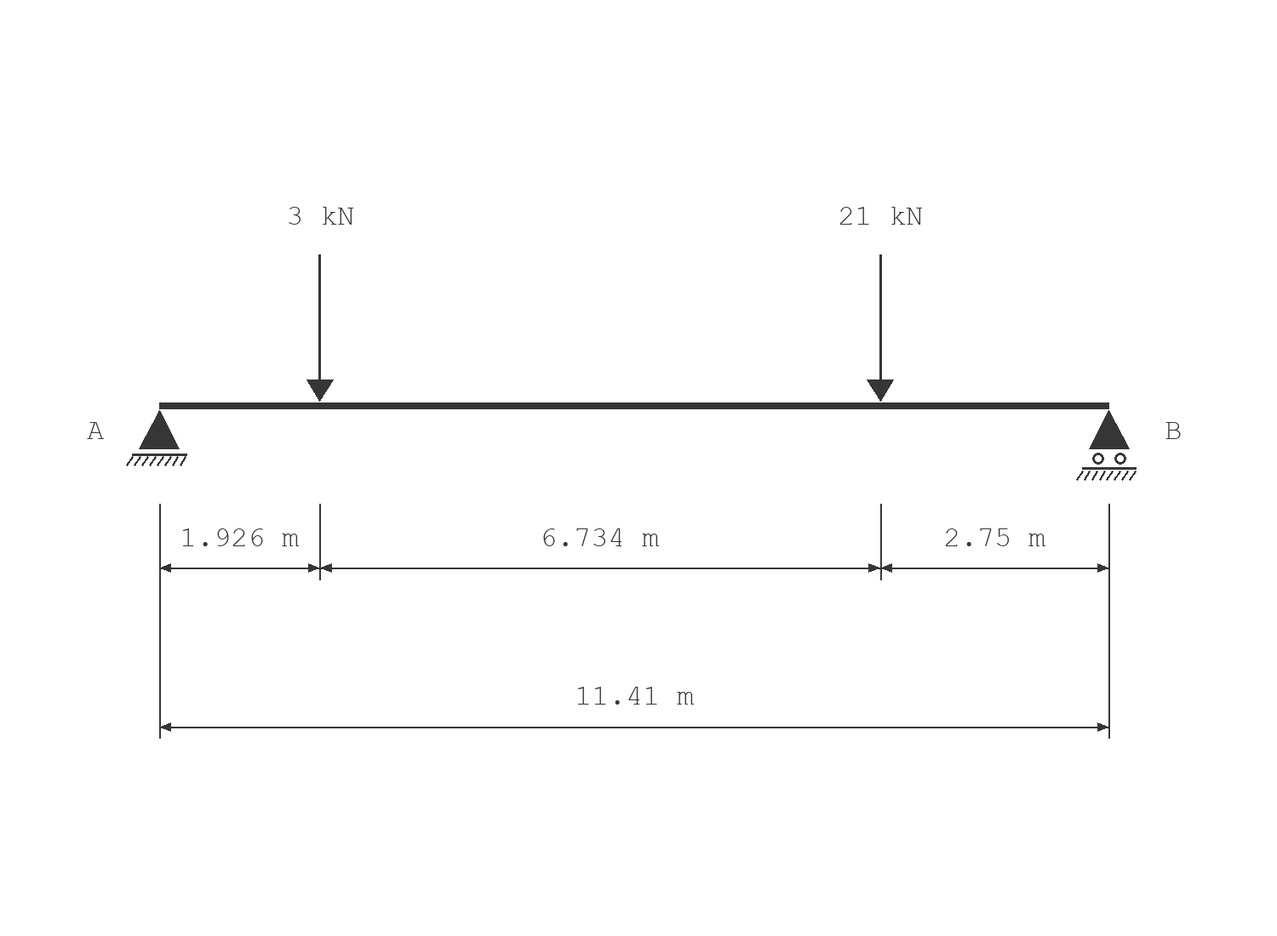pin_support: (126, 410, 187, 466)
point_load: (306, 254, 334, 402), (867, 254, 894, 402)
roller_support: (1076, 410, 1137, 481)
